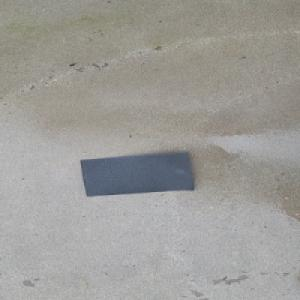PaintChip: (79, 150, 195, 197)
